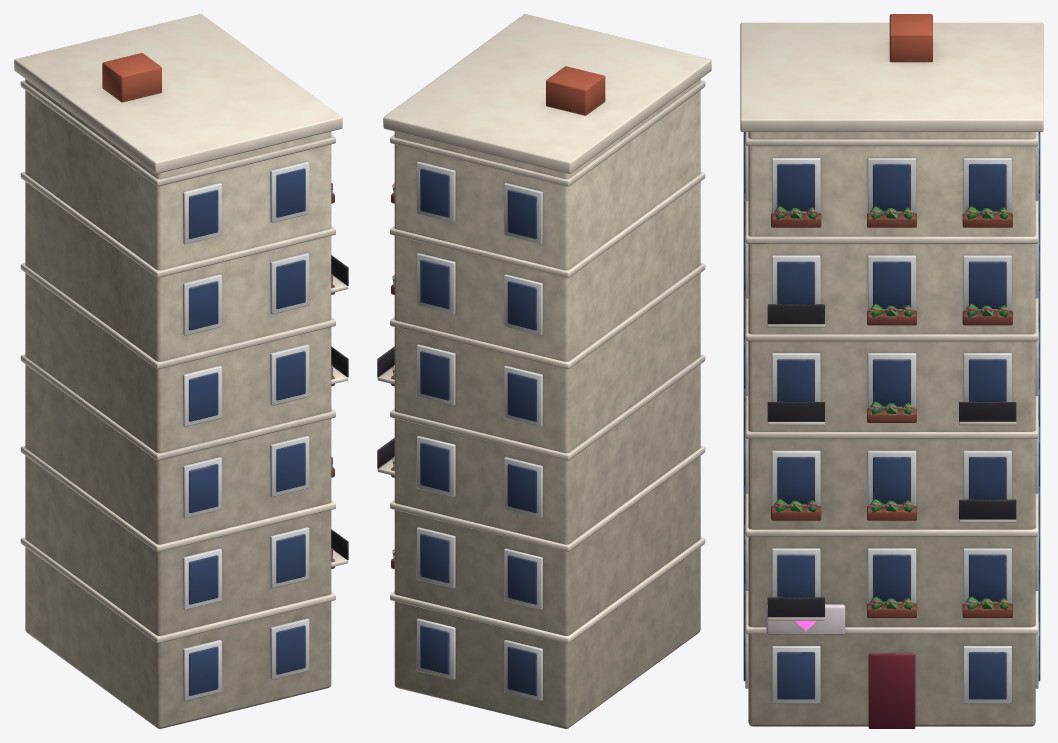
File: rc_building_d.glb
3 renders of one model, left to right at view 1: azimuth 30°, elevation 25°; view 2: azimuth 150°, elevation 25°; view 3: azimuth 270°, elevation 25°, orthographic. The views are drawn at different scales.
Parts seen in each view (by area): view 1: rc_building_d; view 2: rc_building_d; view 3: rc_building_d.
Boxes of the visible parts, bbox=[...] form: rc_building_d: bbox=[14, 14, 348, 728]; rc_building_d: bbox=[377, 14, 711, 728]; rc_building_d: bbox=[740, 14, 1043, 728].
Bounding box in the file's own units: 7.08 × 19.65 × 8.45.
Materials: 15 (15 with a texture image).
